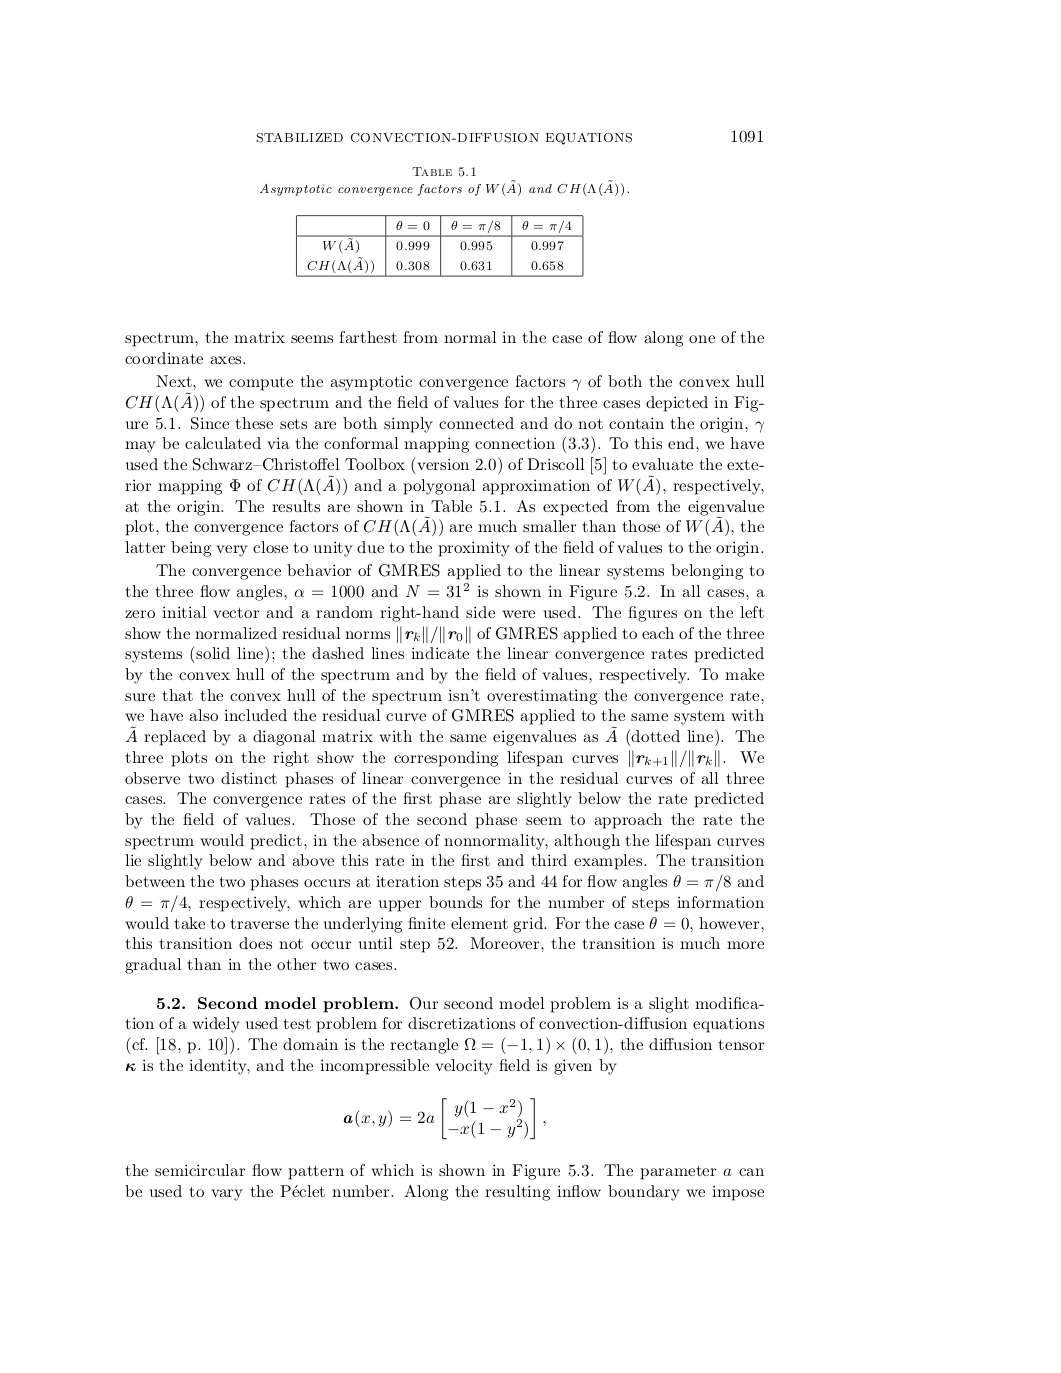Table: (296, 214, 583, 277)
formula: (343, 1097, 545, 1140)
